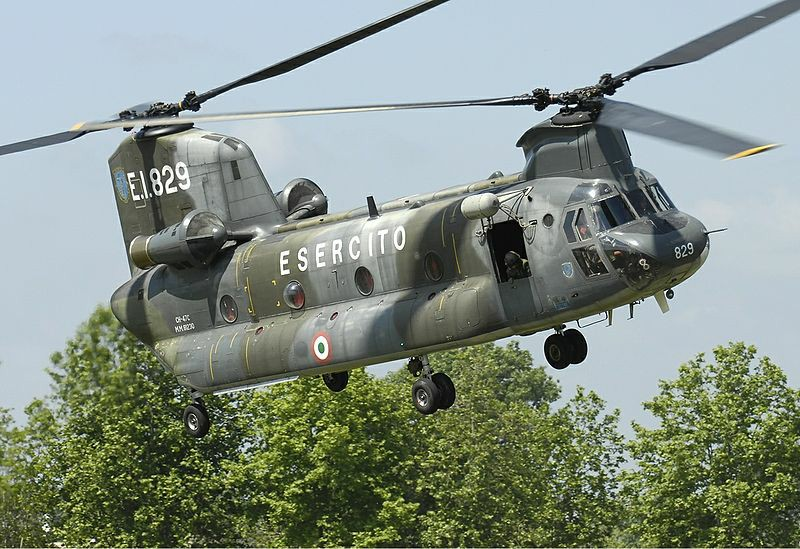chinook: (43, 35, 769, 430)
